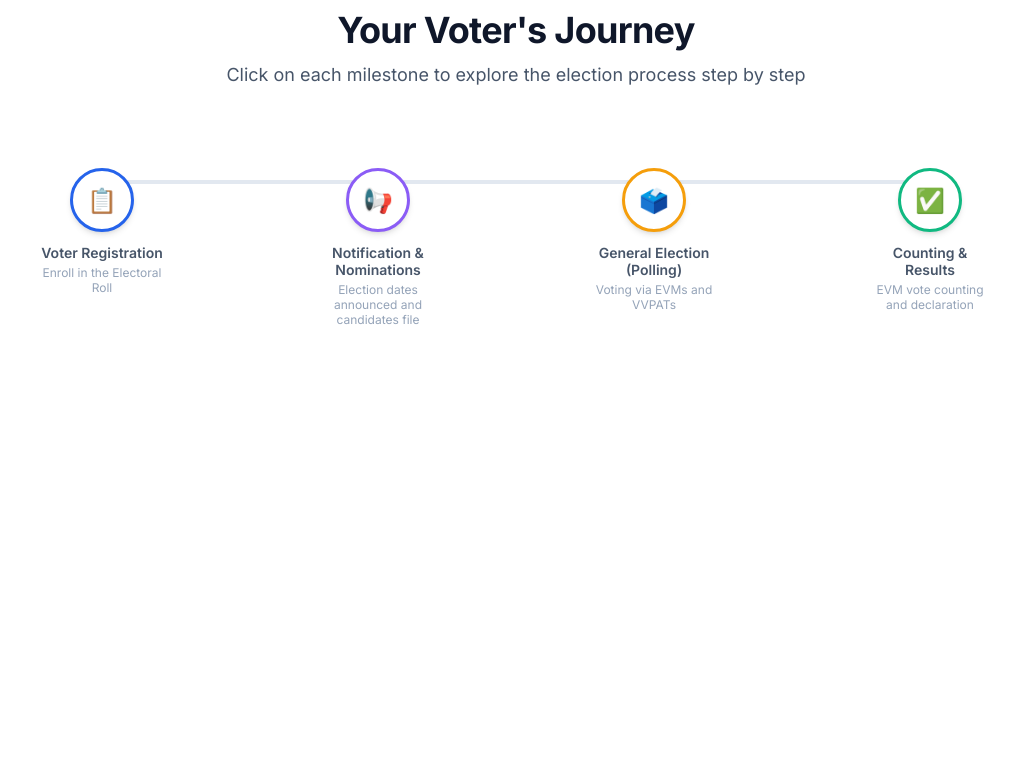
Test: JourneyMap › opens dashboard when milestone is clicked
Click the tab "Voter Registration" at (102, 232), box [32,160,172,303]
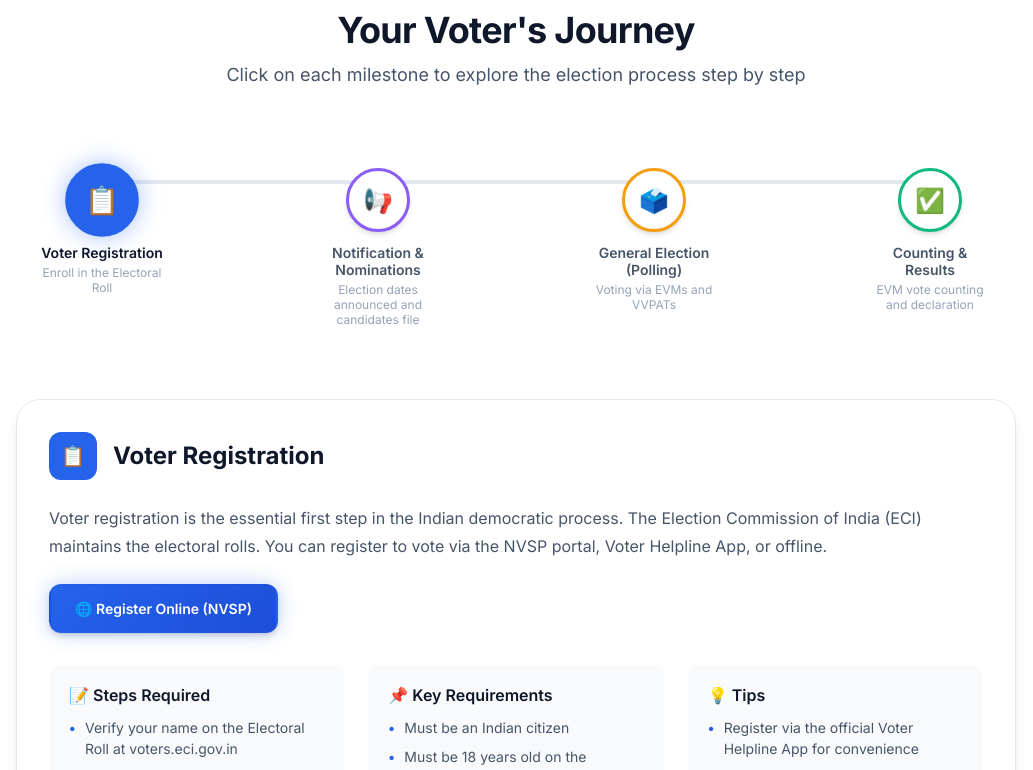
Expected: the text "Voter registration is the essential first step" is shown, [49,508,922,556]
